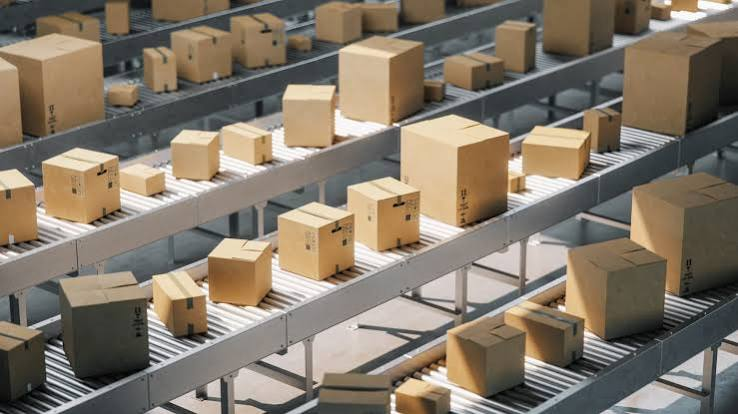box: (392, 113, 511, 222), (0, 42, 108, 132), (639, 186, 738, 278), (49, 284, 156, 367), (629, 38, 709, 137), (340, 47, 434, 124), (42, 144, 119, 232), (592, 248, 668, 323), (0, 313, 64, 399), (283, 205, 354, 275), (361, 182, 424, 257), (456, 325, 524, 392), (212, 232, 281, 296), (311, 366, 398, 414), (285, 78, 340, 148), (523, 122, 582, 182), (149, 267, 206, 328), (172, 28, 237, 81), (519, 299, 579, 354), (167, 130, 227, 184), (230, 16, 288, 64), (0, 167, 39, 236), (586, 99, 628, 155), (502, 18, 547, 70), (453, 52, 500, 94), (225, 116, 266, 162), (144, 49, 182, 95), (401, 379, 449, 413), (97, 0, 141, 36), (125, 161, 167, 198), (107, 83, 141, 112), (427, 71, 443, 104)
